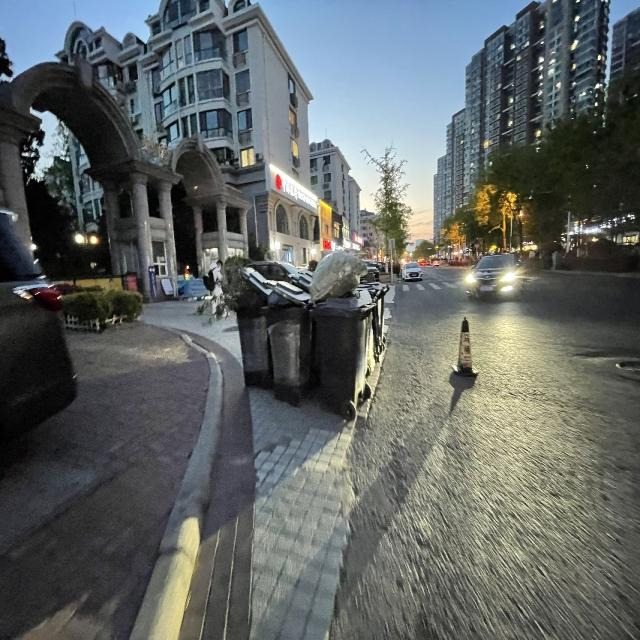overflow: (308, 250, 376, 409), (196, 254, 273, 383), (261, 278, 310, 385)
